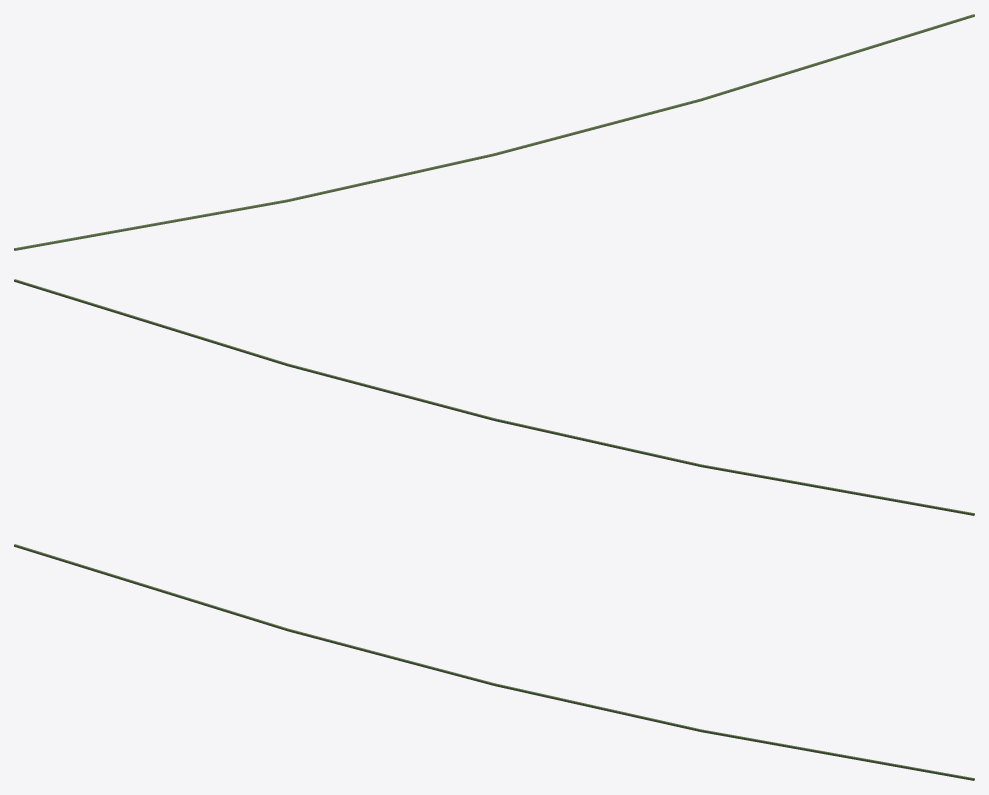
File: PowerLines_03.fbx
The picture shows the model from 3 angles, top to bottom: view 1: azimuth 30°, elevation 25°; view 2: azimuth 150°, elevation 25°; view 3: azimuth 330°, elevation 25°; orthographic projection.
Visible parts, largest first — view 1: PowerLines_03; view 2: PowerLines_03; view 3: PowerLines_03.
Part boxes in pixels (x1=…): PowerLines_03: x1=14, y1=14, x2=974, y2=250; PowerLines_03: x1=14, y1=279, x2=974, y2=515; PowerLines_03: x1=14, y1=544, x2=974, y2=780.
Bounding box in the file's own units: 7.98 × 0.1907 × 0.015.
